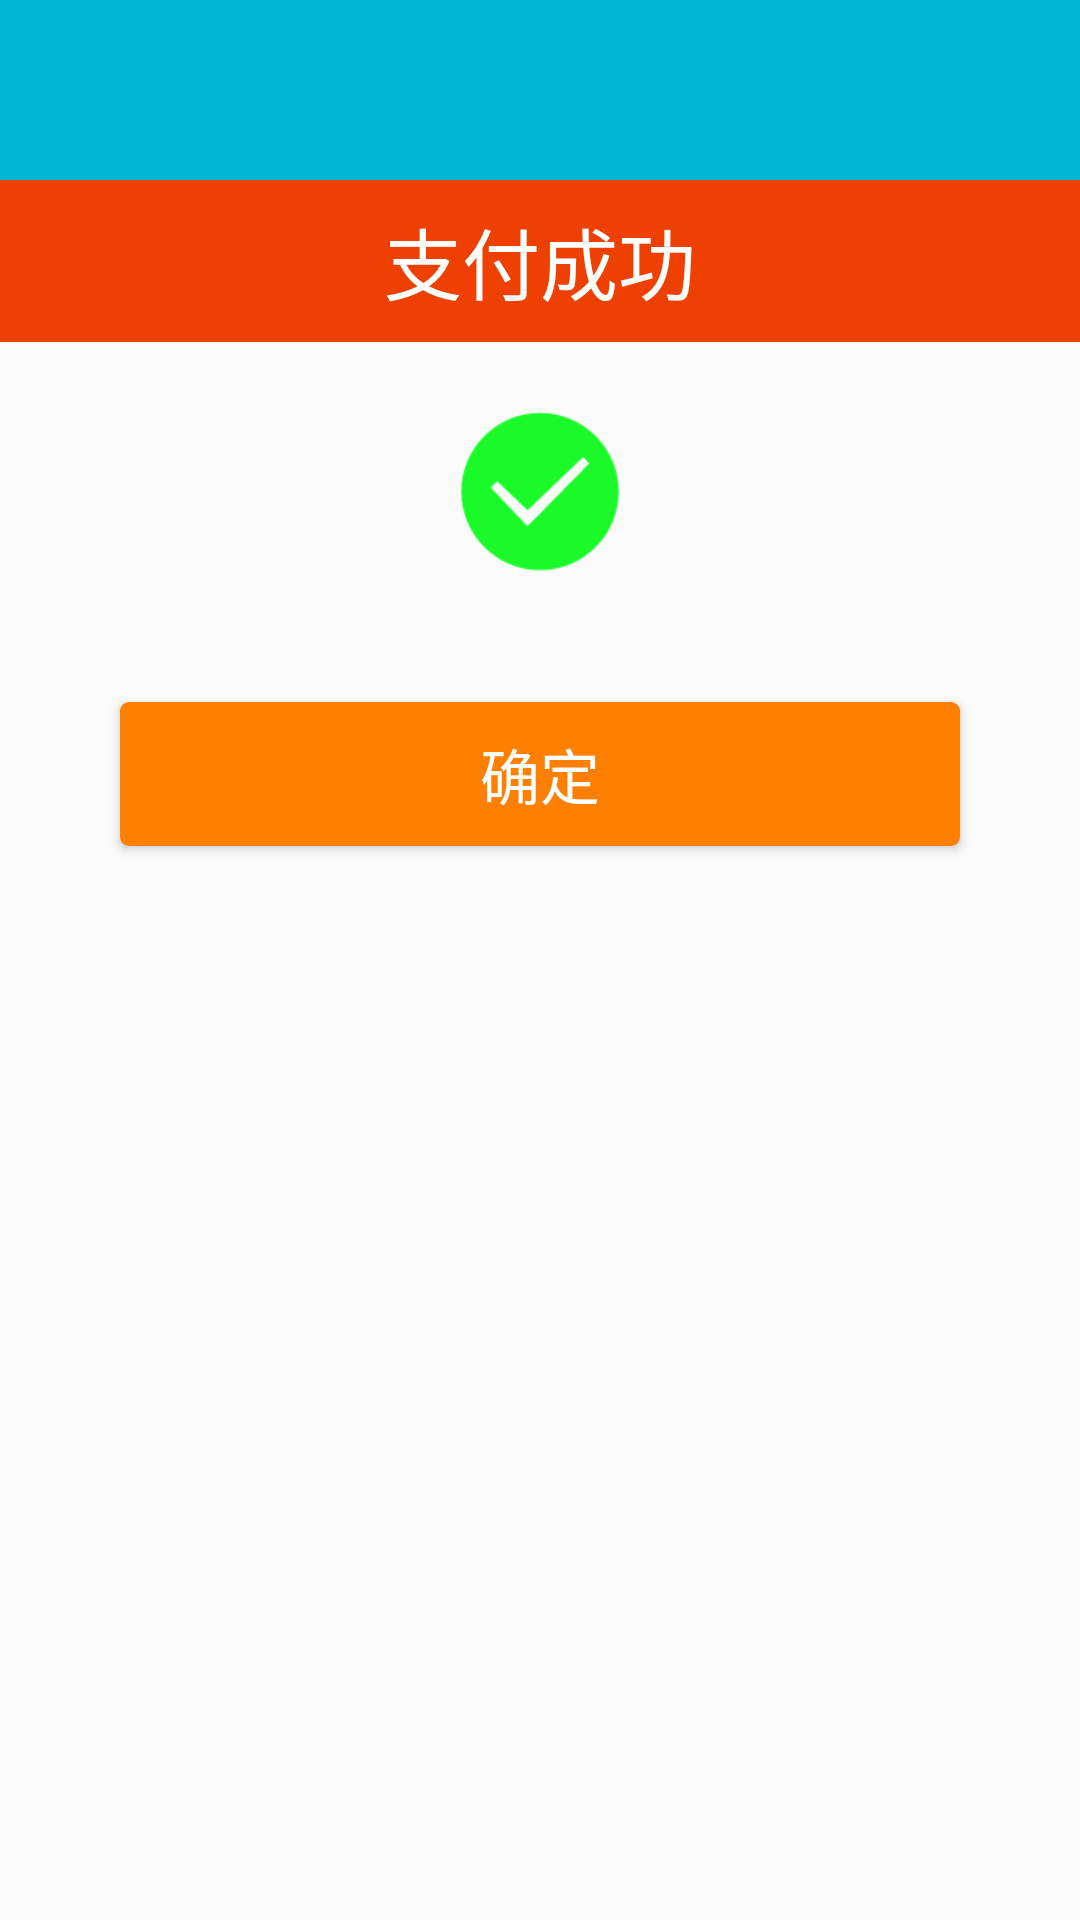

Where to tap for icons on this 1080*1920 app screen, as [x,y]:
succeed payed: [540,491]
